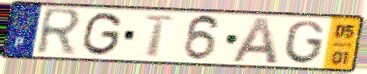6: (183, 13, 226, 63)
A: (229, 16, 281, 66)
G: (282, 19, 327, 66), (80, 11, 125, 58)
R: (34, 6, 85, 58)
T: (142, 13, 178, 59)
